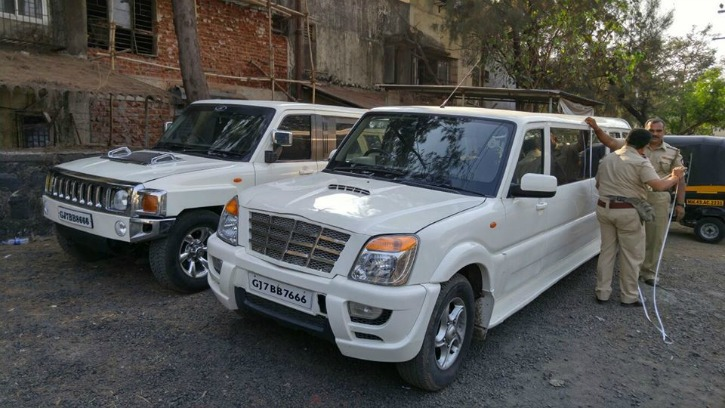number_plate: (239, 262, 319, 321)
